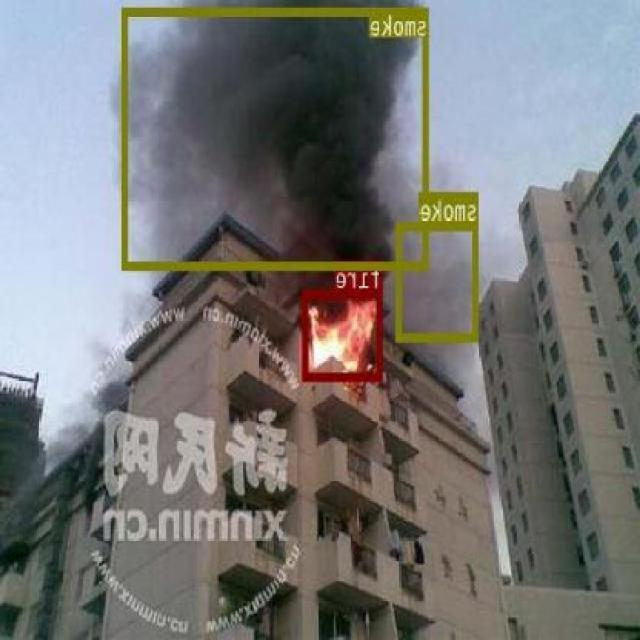Fire: (304, 288, 384, 380)
Smoke: (124, 6, 430, 269), (398, 220, 479, 342)
